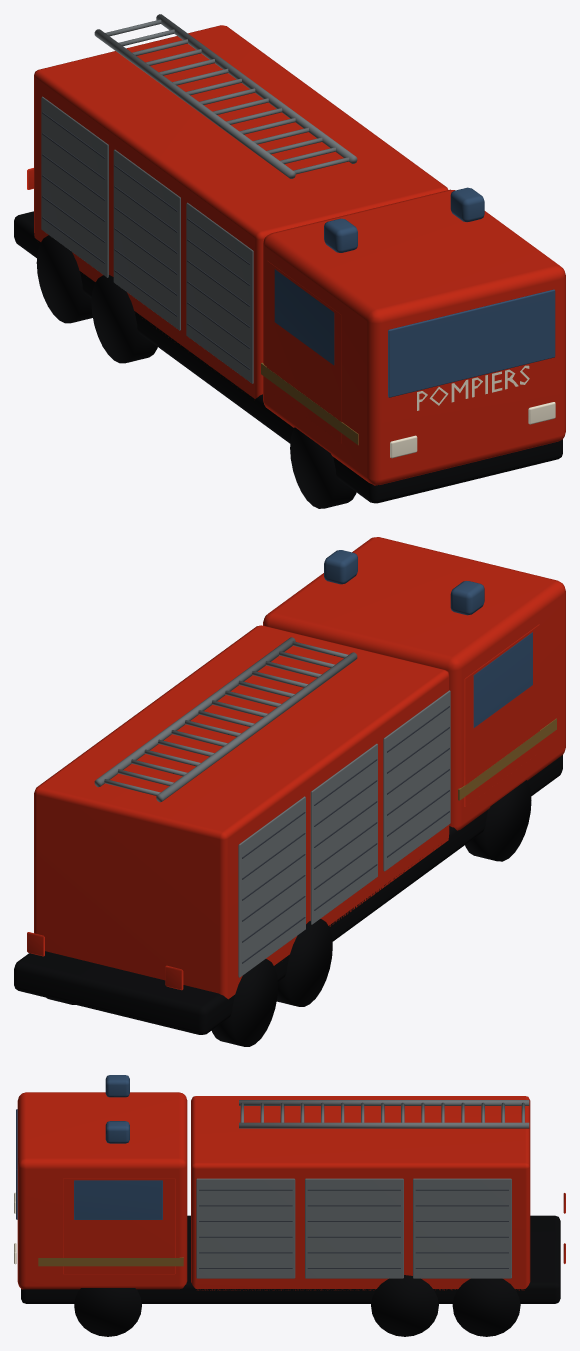
The model's file is fire-truck.glb.
The picture shows the model from 3 angles, top to bottom: view 1: azimuth 30°, elevation 25°; view 2: azimuth 150°, elevation 25°; view 3: azimuth 270°, elevation 25°; orthographic projection. The views are drawn at different scales.
Parts seen in each view (by area): view 1: fire-truck; view 2: fire-truck; view 3: fire-truck.
Boxes of the visible parts, box(x1,y1,x2,y2) form: fire-truck: box(14, 14, 565, 508); fire-truck: box(14, 537, 565, 1046); fire-truck: box(14, 1075, 565, 1336).
Size of the model in its own units: 1.62 by 2.08 by 5.19.
Materials: 1 (1 with a texture image).
